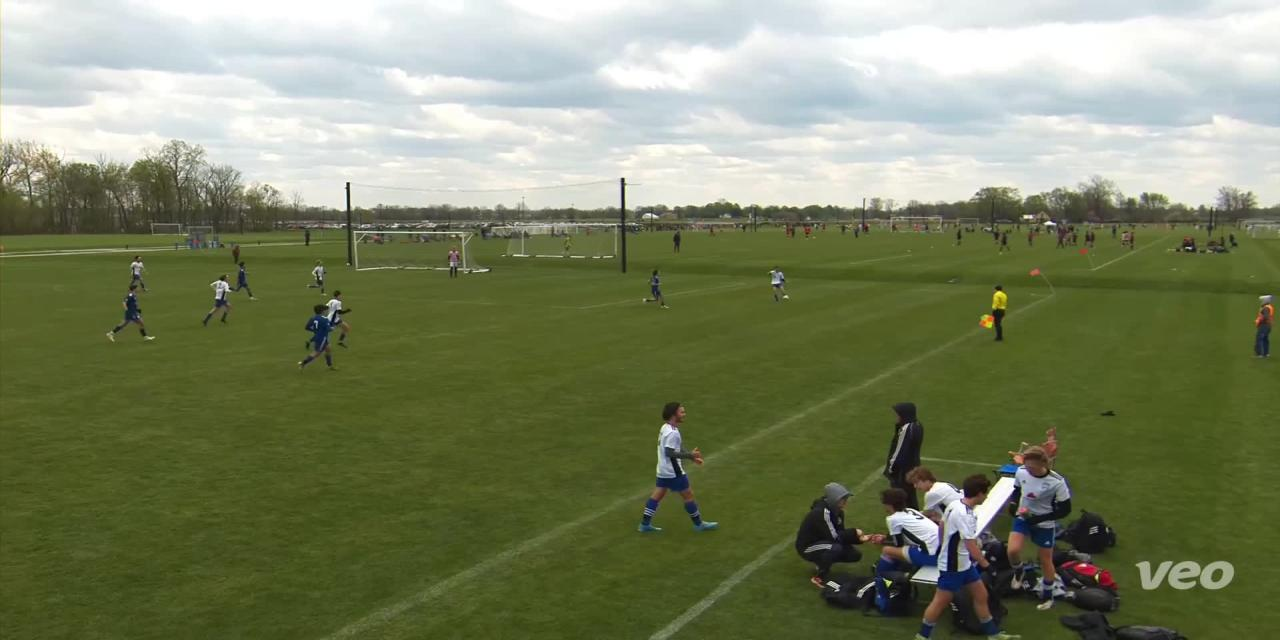goal: (338, 226, 511, 278)
sports ball: (777, 289, 804, 298)
